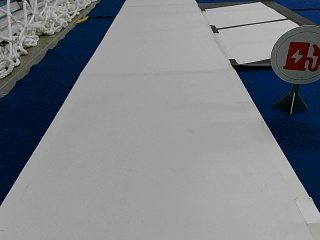battery: (271, 24, 320, 84)
